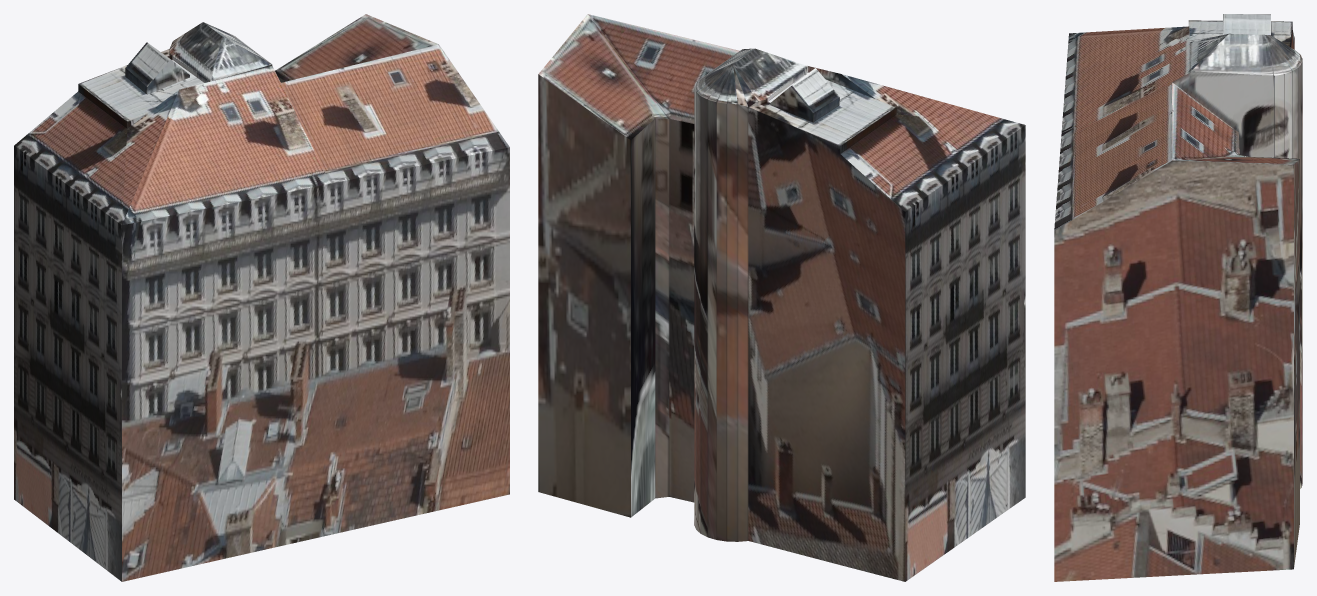
3 renders of one model, left to right at view 1: azimuth 30°, elevation 25°; view 2: azimuth 150°, elevation 25°; view 3: azimuth 270°, elevation 25°, orthographic. The views are drawn at different scales.
Parts seen in each view (by area): view 1: Z_UP; view 2: Z_UP; view 3: Z_UP.
Boxes of the visible parts, x1,y1,x2,y2 form: Z_UP: [14, 14, 509, 581]; Z_UP: [538, 14, 1025, 581]; Z_UP: [1054, 14, 1302, 581].
Size of the model in its own units: 25.4 by 28.3 by 14.19.
2 materials, 1 textured.
